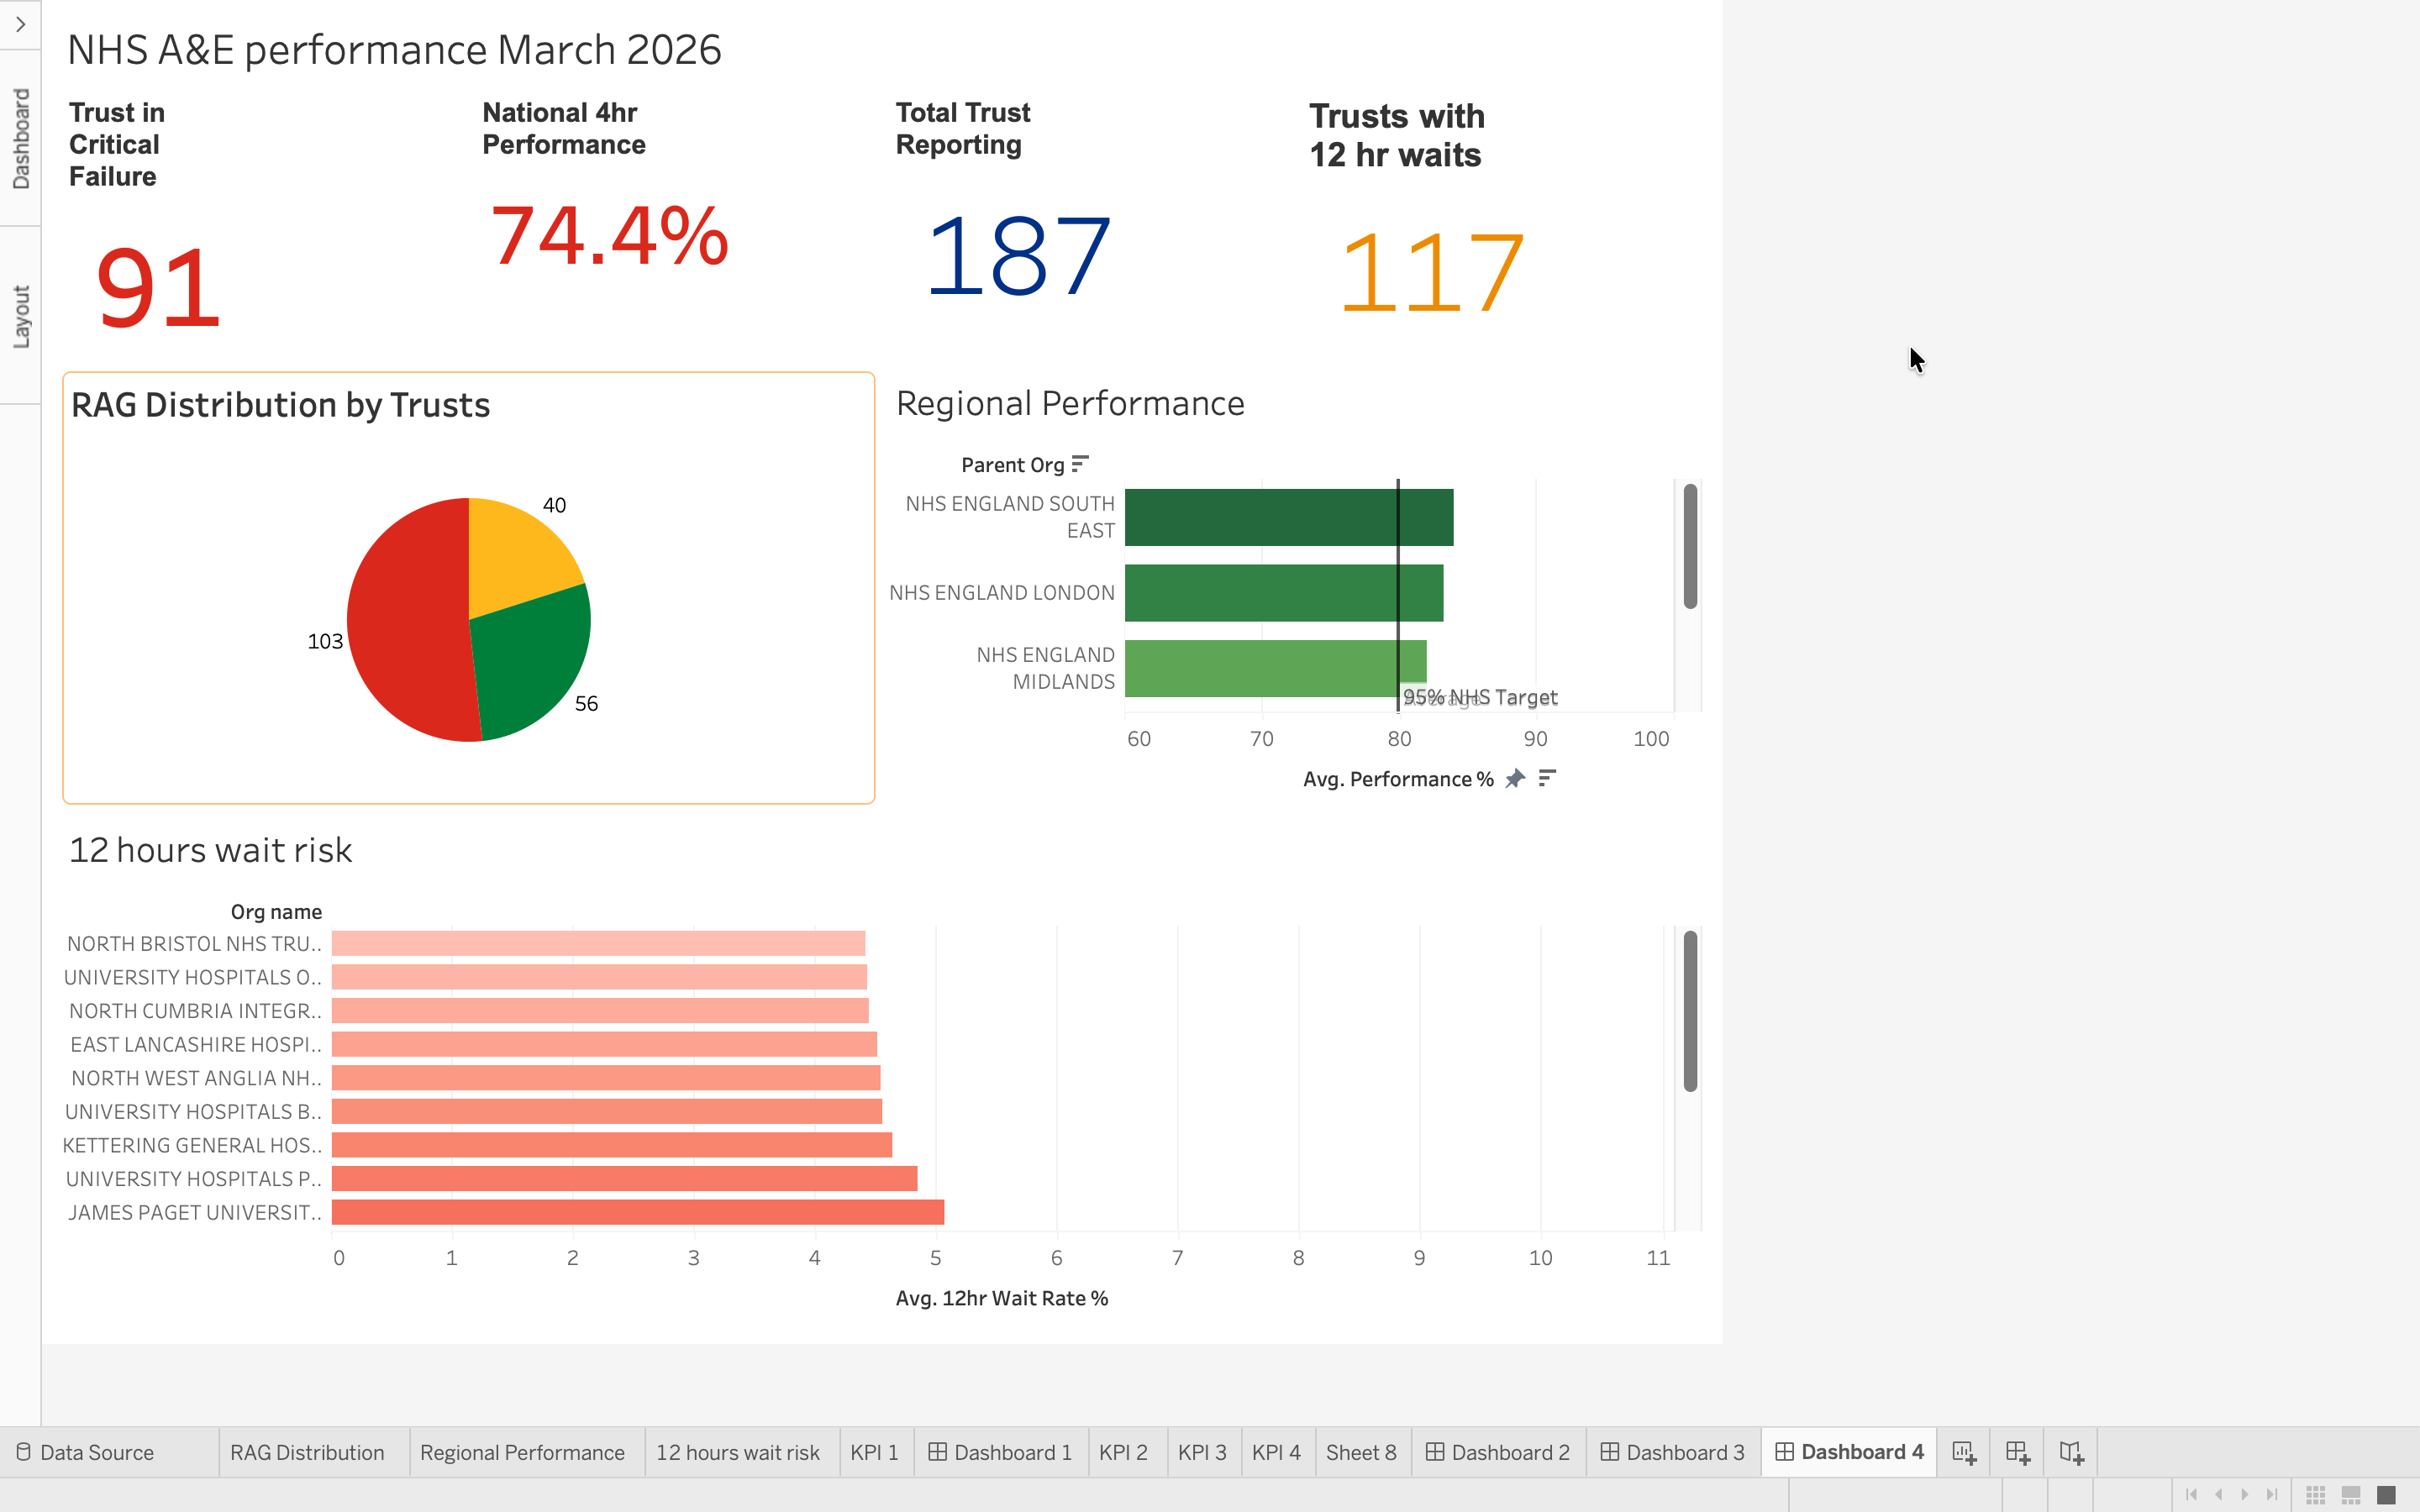

What the dashboard file says about the page in this screenshot:
{"tool":"tableau","page":{"name":"Dashboard 4","canvas":[1000,800],"ordinal":3},"visuals":[{"type":"title","box":[8,8,984,42]},{"type":"worksheet","title":"KPI 2 ","mark":"Text","box":[8,50,246,167]},{"type":"worksheet","title":"KPI 1","mark":"Text","box":[254,50,246,167]},{"type":"worksheet","title":"KPI 3","mark":"Text","box":[500,50,246,167]},{"type":"worksheet","title":"KPI 4","mark":"Text","box":[746,50,246,167]},{"type":"worksheet","title":"RAG Distribution ","mark":"Pie","box":[8,217,492,266]},{"type":"worksheet","title":"Regional Performance","mark":"Bar","rows":["Parent Org"],"cols":["Calculation_0092901856206850"],"box":[500,217,492,266]},{"type":"worksheet","title":"12 hours wait risk","mark":"Automatic","rows":["Org name"],"cols":["Calculation_0092901856763908"],"box":[8,483,984,309]}]}

Visuals, with their boxes on the page's 1000x800 design canvas (x1, y1, x2, y2). These are canvas units, not pixel positions in the 2420x1512 screenshot, which may show the page scaled, cropped or inside an application window:
title: select_region(8, 8, 992, 50)
"KPI 2 " worksheet (Text marks): select_region(8, 50, 254, 217)
"KPI 1" worksheet (Text marks): select_region(254, 50, 500, 217)
"KPI 3" worksheet (Text marks): select_region(500, 50, 746, 217)
"KPI 4" worksheet (Text marks): select_region(746, 50, 992, 217)
"RAG Distribution " worksheet (Pie marks): select_region(8, 217, 500, 483)
"Regional Performance" worksheet (Bar marks): select_region(500, 217, 992, 483)
"12 hours wait risk" worksheet: select_region(8, 483, 992, 792)
